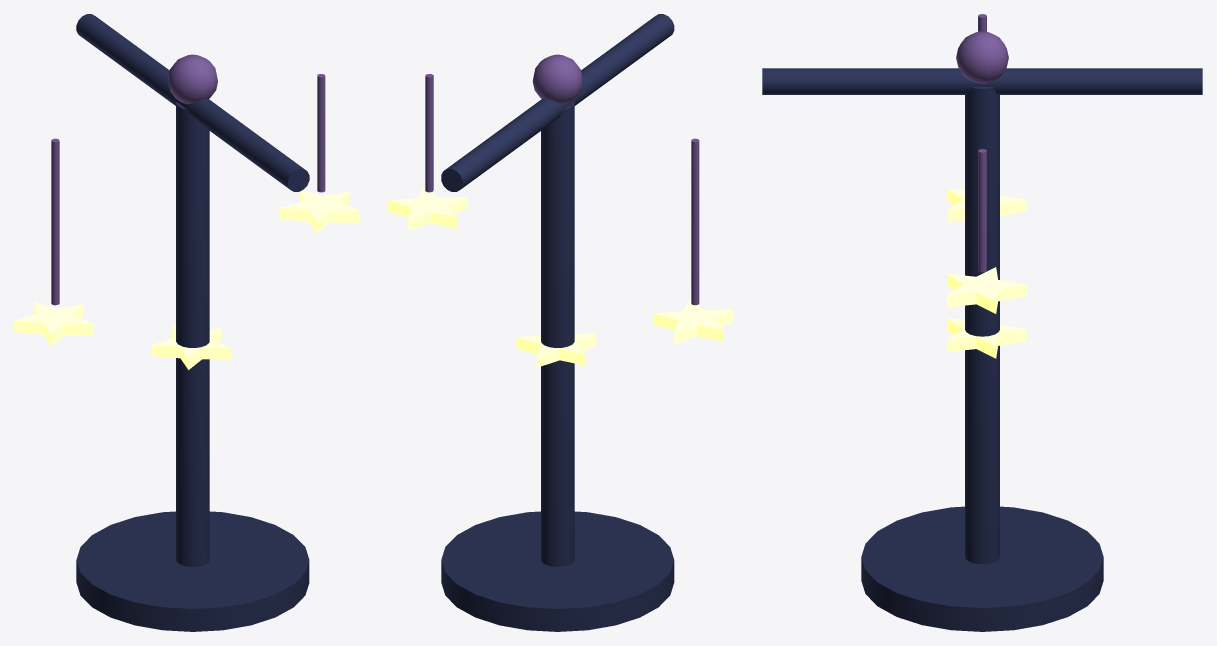
File: zone_night_stars_mobile.glb
The picture shows the model from 3 angles, left to right: view 1: azimuth 30°, elevation 25°; view 2: azimuth 150°, elevation 25°; view 3: azimuth 270°, elevation 25°; orthographic projection. The views are drawn at different scales.
Visible parts, largest first — view 1: zone_night_stars_mobile; view 2: zone_night_stars_mobile; view 3: zone_night_stars_mobile.
Boxes of the visible parts, x1,y1,x2,y2 form: zone_night_stars_mobile: (14, 14, 359, 631); zone_night_stars_mobile: (388, 14, 733, 631); zone_night_stars_mobile: (762, 14, 1202, 631).
Size of the model in its own units: 1.83 by 2.74 by 2.
